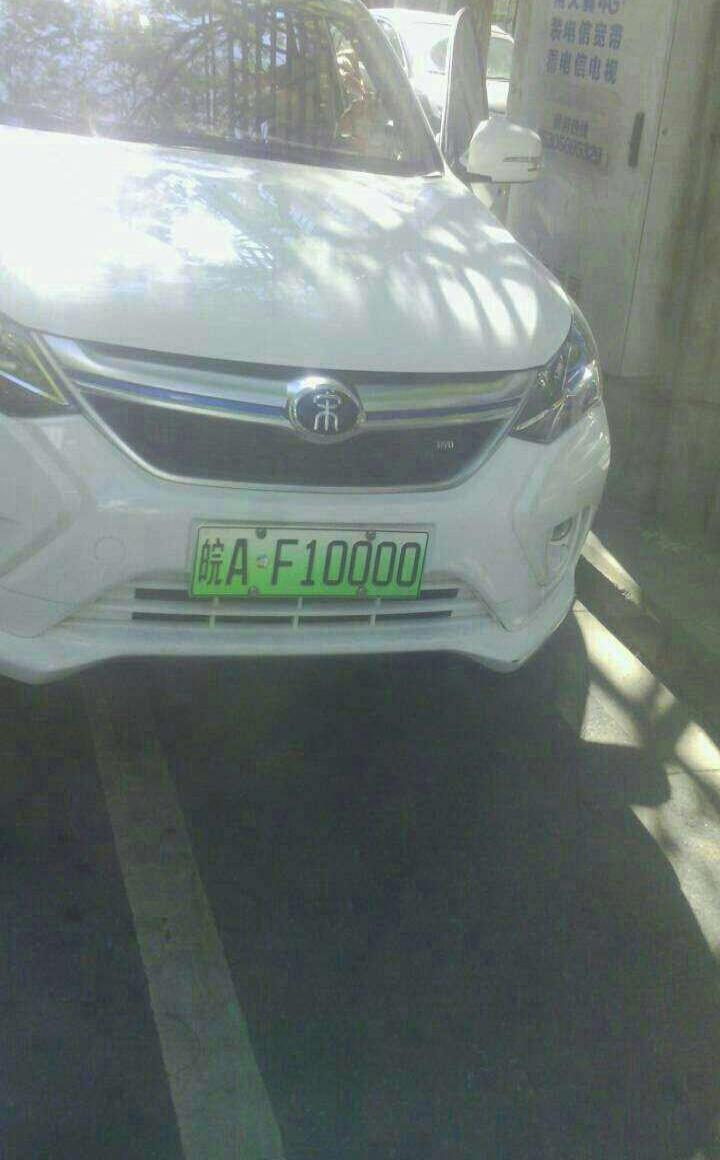car_id: (194, 522, 433, 599)
